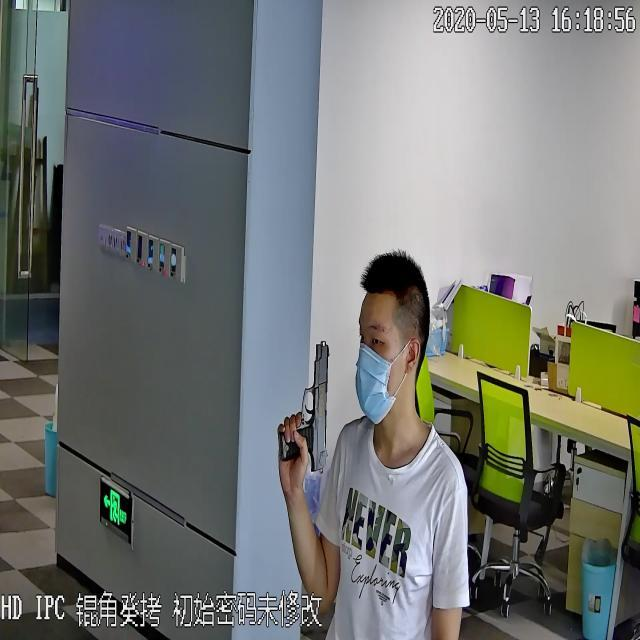gun: (273, 337, 331, 467)
